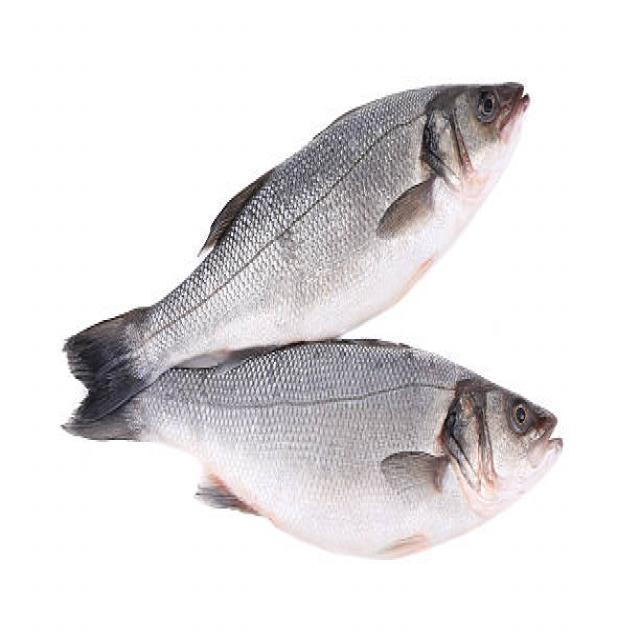Healthy Fish: (50, 77, 592, 563)
